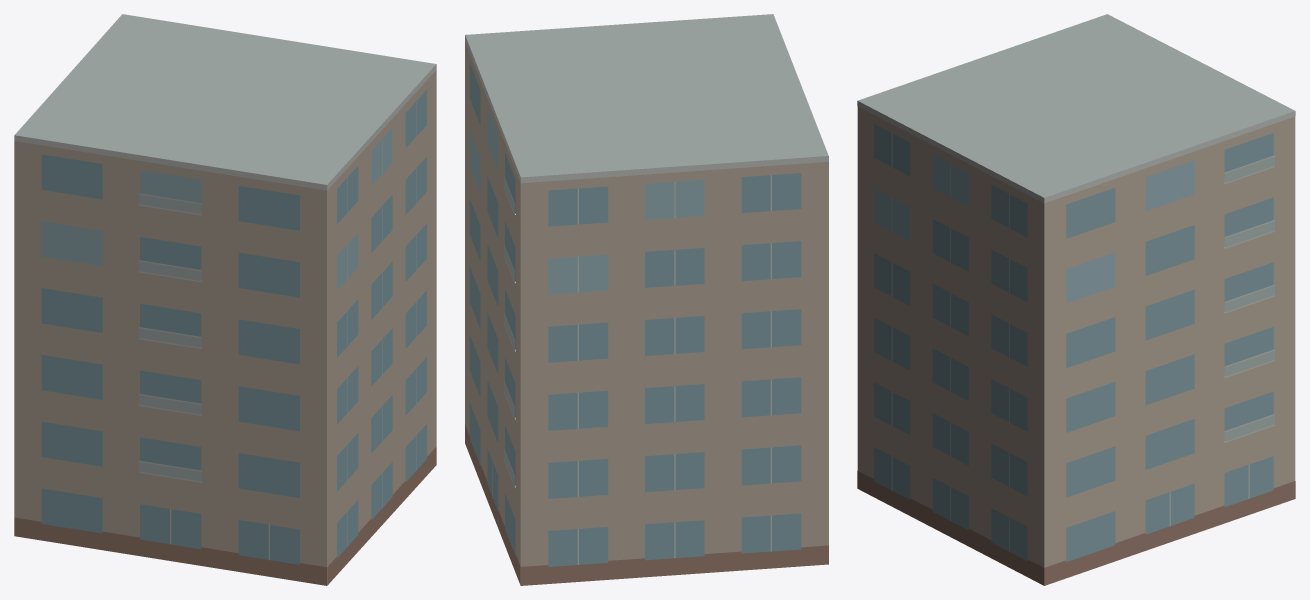
The model's file is survey-upis-32844126.glb.
The picture shows the model from 3 angles, left to right: view 1: azimuth 30°, elevation 25°; view 2: azimuth 150°, elevation 25°; view 3: azimuth 270°, elevation 25°; orthographic projection. The views are drawn at different scales.
Visible parts, largest first — view 1: survey-upis-32844126.tmp; view 2: survey-upis-32844126.tmp; view 3: survey-upis-32844126.tmp.
Part boxes in pixels (x1,y1,x2,y2): survey-upis-32844126.tmp: [14, 14, 436, 585]; survey-upis-32844126.tmp: [465, 14, 828, 585]; survey-upis-32844126.tmp: [857, 14, 1295, 585].
Size of the model in its own units: 17.4 by 17.1 by 17.51.
